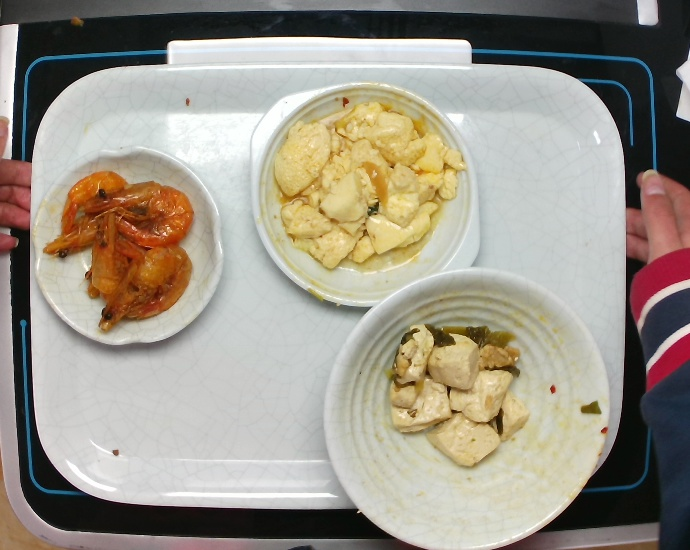JYsf-Shuang_Er_Pan: (249, 83, 487, 308)
JYsf-Xiao_Tang_Wan: (325, 266, 609, 550)
